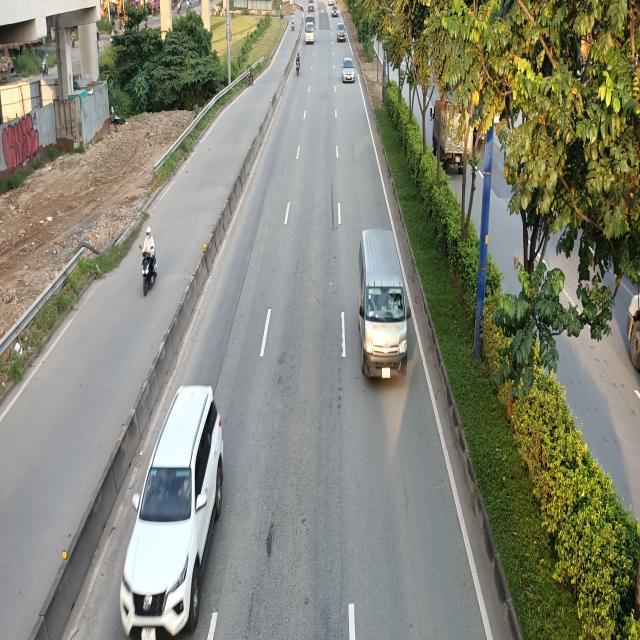car: (116, 382, 220, 634), (342, 58, 356, 83), (337, 22, 347, 43)
truck: (305, 10, 316, 44)
van: (356, 228, 410, 380)
